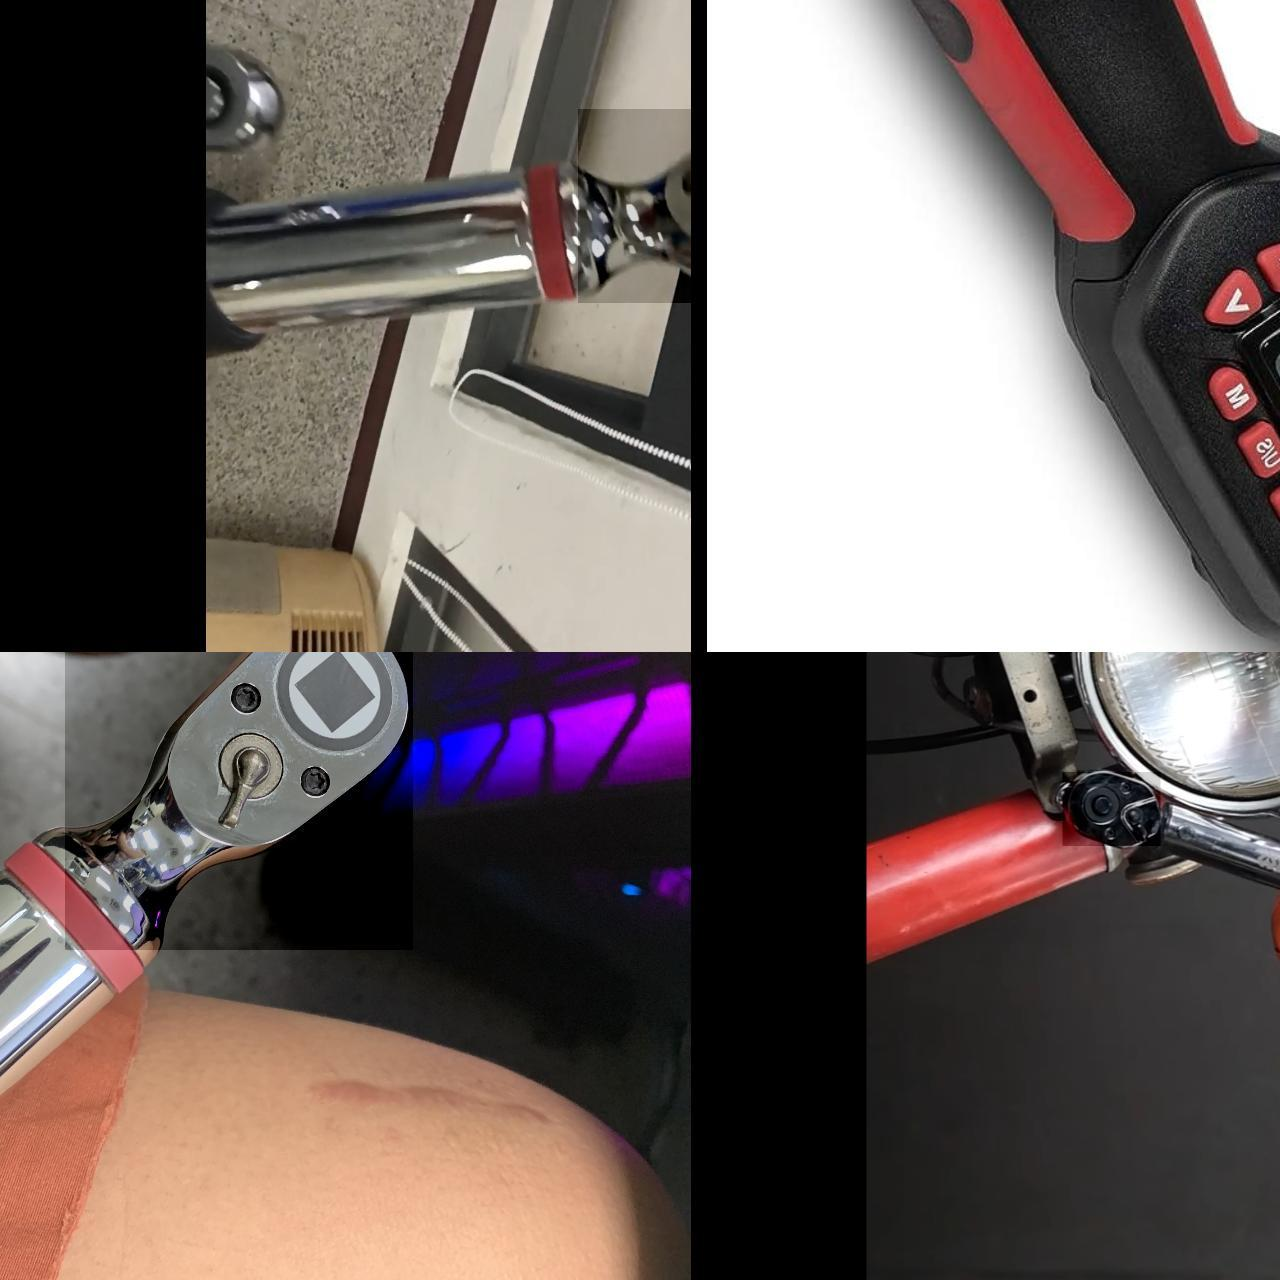Tool: (64, 652, 411, 949), (577, 109, 692, 302), (1062, 771, 1160, 845)
